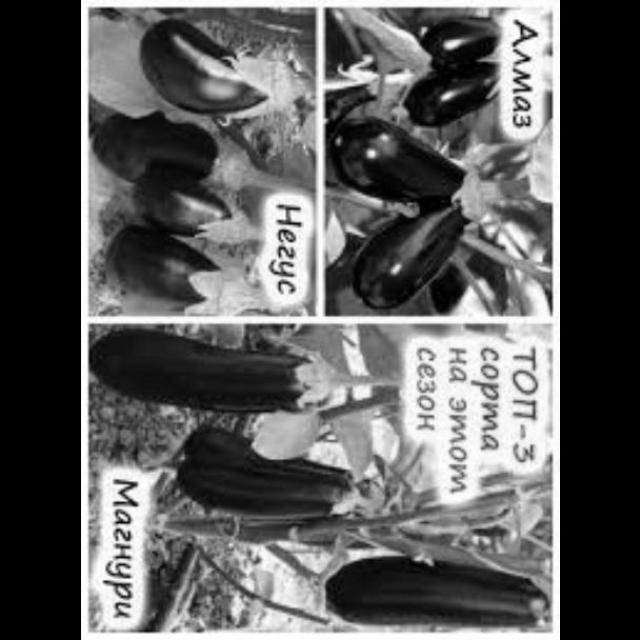ca tim: (282, 527, 560, 639), (90, 329, 401, 429), (146, 441, 410, 551), (344, 180, 485, 313), (141, 26, 312, 128), (104, 174, 264, 270), (91, 118, 277, 198), (90, 236, 248, 330), (328, 117, 464, 211), (414, 50, 504, 134), (421, 8, 518, 66)
